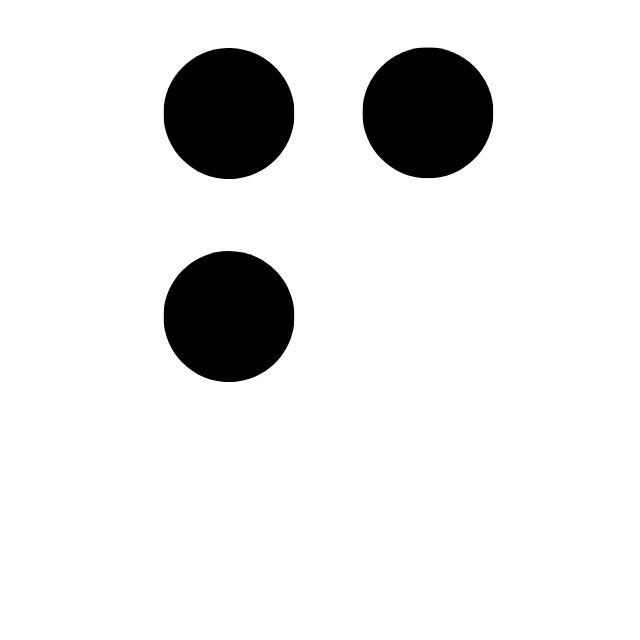f: (163, 45, 492, 550)
